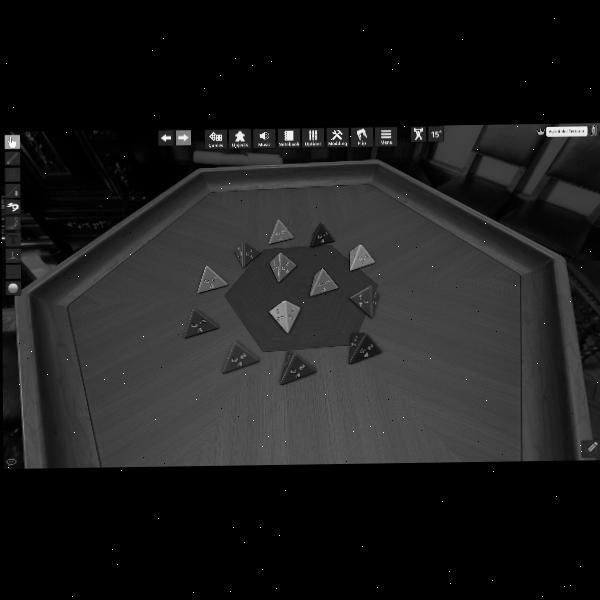d4: (280, 349, 317, 384), (223, 341, 259, 374), (269, 299, 301, 333), (349, 331, 380, 364), (184, 308, 217, 338), (350, 284, 379, 317), (197, 265, 227, 293), (269, 252, 297, 282), (310, 268, 338, 296), (349, 243, 375, 270), (235, 238, 259, 267), (268, 218, 293, 244), (310, 222, 334, 247)
